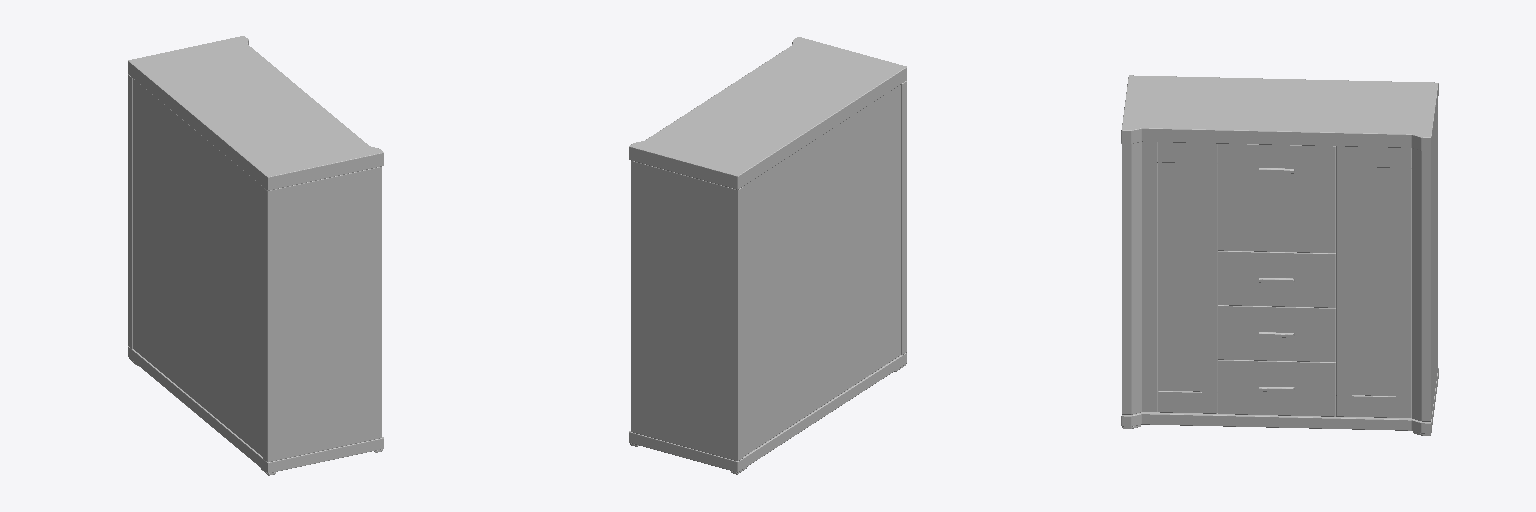
Rendered from Tarea.obj.
3 views of the same model, side by side, from view 1: azimuth 30°, elevation 25°; view 2: azimuth 150°, elevation 25°; view 3: azimuth 270°, elevation 25° (orthographic).
Visible parts, largest first — view 1: Sideboard_buffet; view 2: Sideboard_buffet; view 3: Sideboard_buffet.
Part boxes in pixels (bbox=[...]): Sideboard_buffet: bbox=[128, 36, 383, 475]; Sideboard_buffet: bbox=[629, 37, 906, 474]; Sideboard_buffet: bbox=[1121, 75, 1438, 435].
Size of the model in its own units: 0.837 by 1.87 by 1.8.